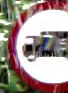Heavy Vehicles: (6, 0, 67, 92)
